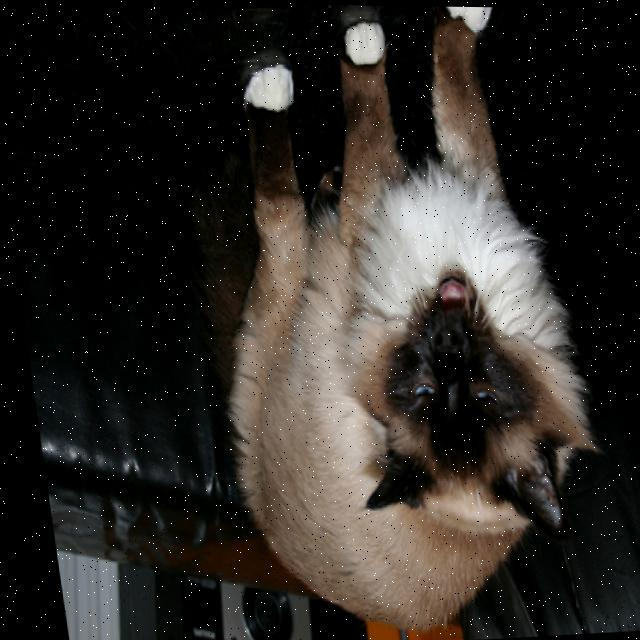Birman: (156, 2, 619, 640)
